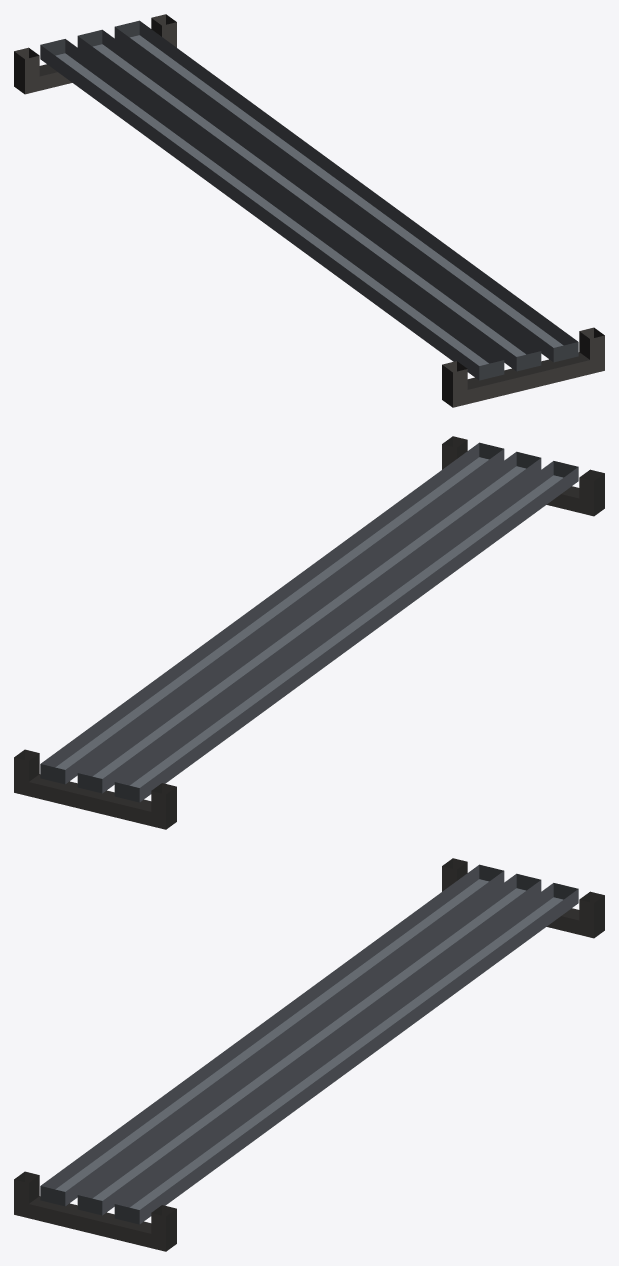
Rendered from AI_Env_Sewer_Wires.fbx.
3 views of the same model, one above another, from view 1: azimuth 30°, elevation 25°; view 2: azimuth 150°, elevation 25°; view 3: azimuth 330°, elevation 25° (orthographic).
Parts seen in each view (by area): view 1: AI_Env_Sewer_Wires; view 2: AI_Env_Sewer_Wires; view 3: AI_Env_Sewer_Wires.
Boxes of the visible parts, <box> form: AI_Env_Sewer_Wires: <box>14,14,604,407</box>; AI_Env_Sewer_Wires: <box>14,436,604,829</box>; AI_Env_Sewer_Wires: <box>14,858,604,1251</box>.
Bounding box in the file's own units: 1 × 0.2216 × 5.
